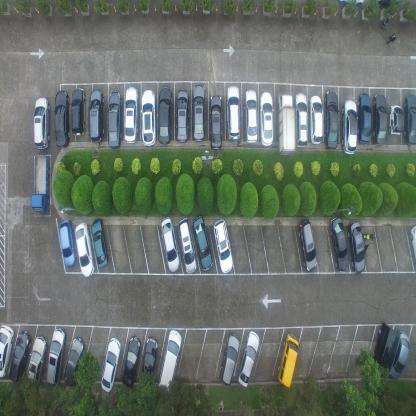car: (157, 328, 182, 395), (373, 322, 398, 378), (276, 332, 300, 388), (237, 330, 260, 388), (25, 334, 48, 389), (8, 329, 31, 384), (160, 217, 182, 274), (192, 215, 214, 271), (74, 222, 96, 278), (387, 330, 411, 381), (46, 326, 66, 386), (213, 217, 234, 274), (100, 336, 121, 393), (178, 216, 198, 274), (329, 214, 349, 272), (64, 336, 86, 388), (31, 155, 50, 214), (297, 217, 317, 272), (220, 332, 240, 387), (278, 92, 295, 156), (139, 336, 158, 392), (121, 336, 141, 389), (340, 97, 358, 155), (348, 220, 366, 276), (58, 218, 78, 268), (54, 88, 70, 150), (33, 95, 51, 150), (90, 218, 109, 270), (140, 88, 156, 148), (259, 90, 275, 147), (225, 84, 241, 141), (158, 86, 173, 146), (124, 86, 139, 145), (107, 90, 122, 149), (324, 88, 338, 151), (0, 322, 15, 379), (372, 93, 388, 146), (244, 88, 259, 144), (191, 83, 205, 143), (175, 88, 190, 144), (89, 88, 104, 144), (209, 94, 223, 150), (357, 93, 372, 145), (71, 86, 86, 137), (294, 90, 307, 148), (308, 94, 323, 144), (404, 92, 416, 147), (389, 103, 404, 136), (408, 224, 416, 268)
